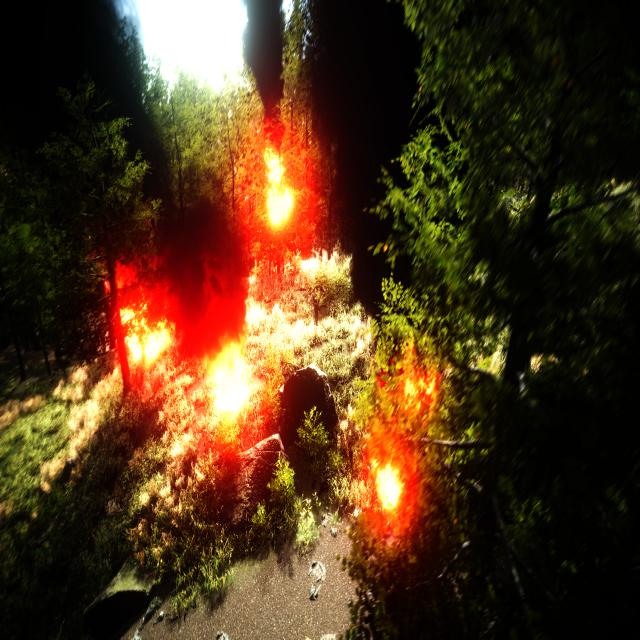Human: (308, 290, 322, 328)
